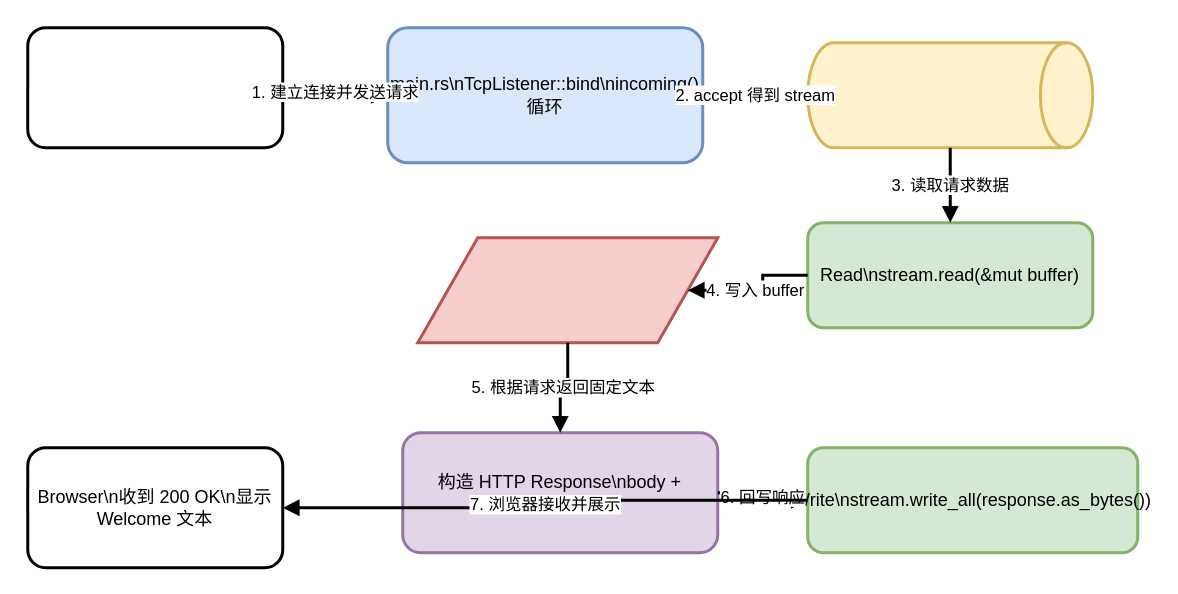
This 1178x594 diagram has some shape labels left out. Each missing label, with the centre of its shape:
"Browser\n发起 HTTP 请求\n127.0.0.1:8080" belongs at pixel 155 87.
"buffer [0; 1024]\n保存浏览器请求报文" belongs at pixel 567 290.
"TcpStream\nstream.unwrap()" belongs at pixel 950 94.
